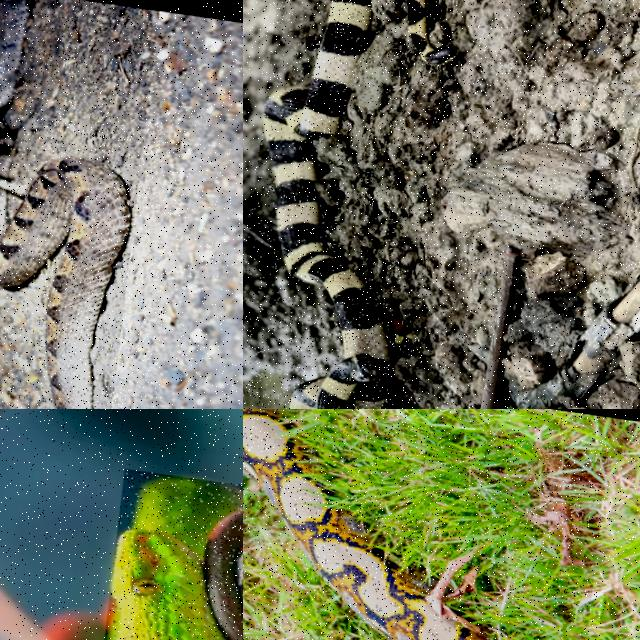Bungarus fasciatus: (263, 0, 394, 408)
Calloselasma rhodostoma: (0, 158, 130, 408)
Malayopython reticulatus: (243, 409, 484, 639)
Trimeresurus macrops: (109, 479, 242, 639)
